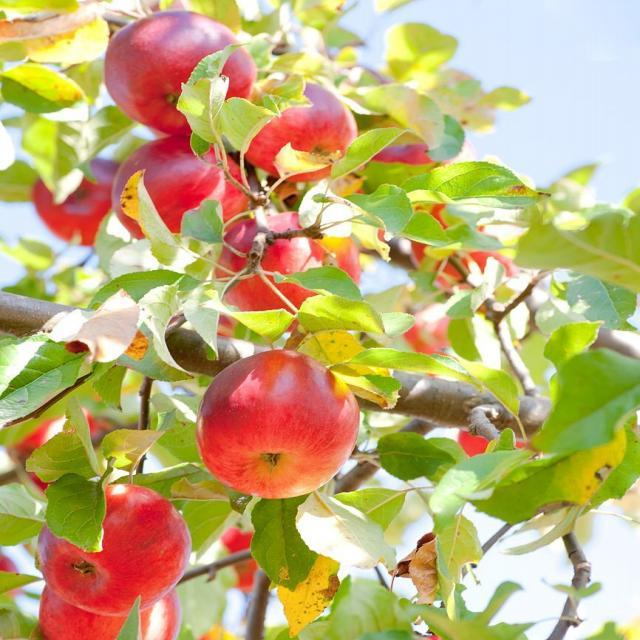Red Apple: (202, 342, 366, 493), (36, 485, 194, 616), (107, 13, 255, 129), (112, 139, 253, 241), (39, 566, 185, 640), (223, 219, 341, 310), (250, 71, 354, 172), (40, 159, 130, 233), (417, 201, 494, 284), (24, 405, 98, 464), (376, 125, 437, 193), (216, 520, 267, 598), (461, 425, 527, 468), (410, 305, 458, 354), (333, 234, 376, 282), (1, 552, 24, 601)
